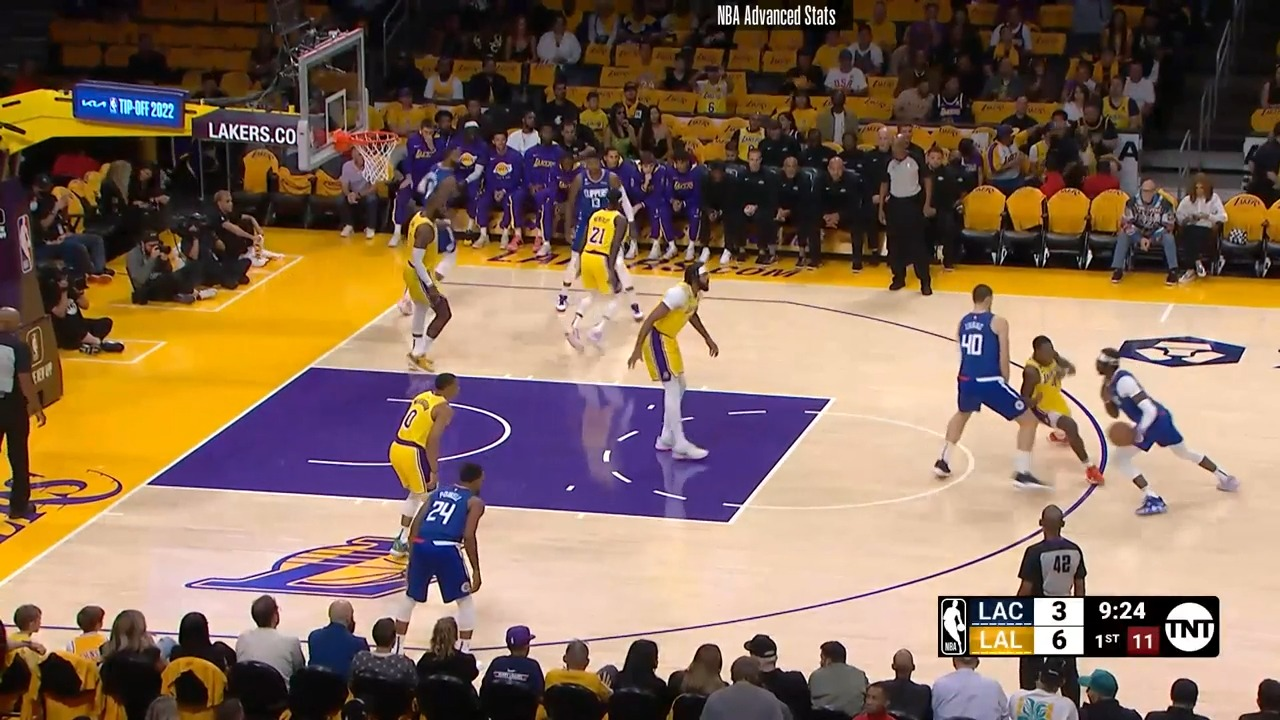net: (328, 123, 408, 182)
player: (1087, 346, 1242, 515), (631, 257, 728, 471), (934, 283, 1028, 488), (402, 459, 495, 648), (391, 372, 469, 563), (564, 189, 650, 352), (546, 153, 635, 309), (1009, 332, 1094, 487), (395, 194, 461, 376), (421, 145, 469, 286)
referee: (1, 287, 47, 529), (876, 137, 938, 300), (1018, 505, 1098, 597)
